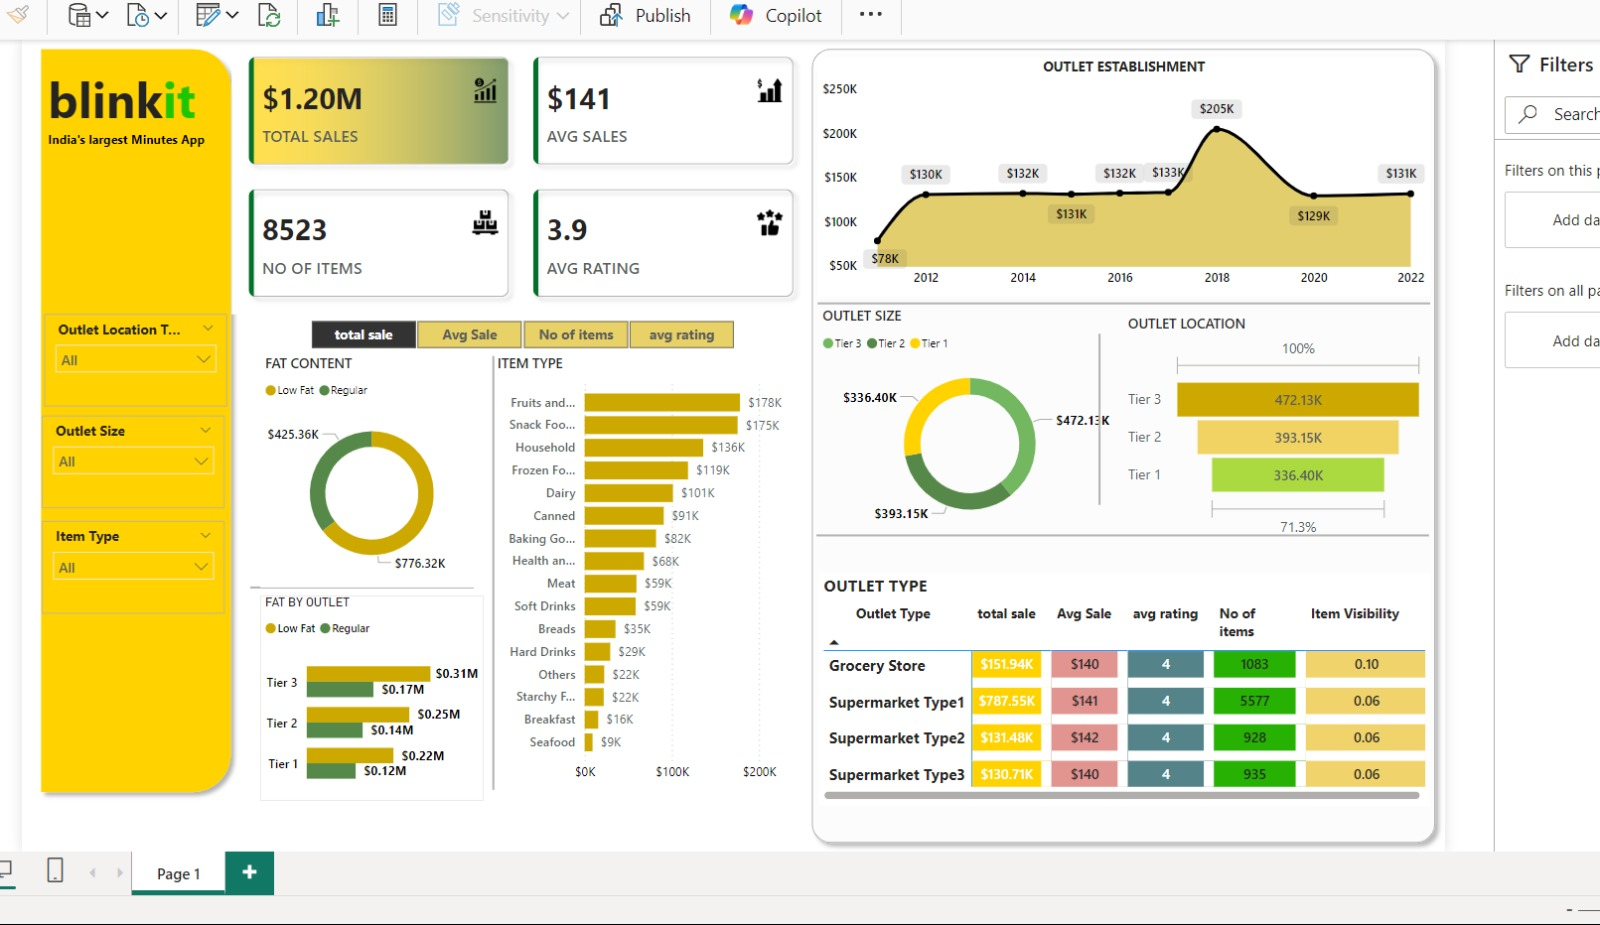

This screenshot's page, from the dashboard's own definition file:
{"tool":"powerbi","page":{"name":"Page 1","canvas":[1400,800],"ordinal":0},"visuals":[{"type":"shape","box":[9.3,0,205,750],"z":0},{"type":"textbox","box":[21.2,21.2,169.3,76.7],"z":1000},{"type":"textbox","box":[21,83.3,177.1,32.4],"z":2000},{"type":"cardVisual","fields":{"Data":["BlinkIT Grocery Data.total sale","BlinkIT Grocery Data.Avg Sale","BlinkIT Grocery Data.No of items","BlinkIT Grocery Data.avg rating"]},"box":[214.3,0,570,270],"z":3000},{"type":"shape","box":[768.6,0,631.4,800],"z":4000},{"type":"donutChart","title":"OUTLET SIZE","fields":{"Y":["BlinkIT Grocery Data.total sale"],"Category":["BlinkIT Grocery Data.Outlet Location Type"]},"box":[782.9,262.9,300,225.7],"z":5000},{"type":"slicer","fields":{"Values":["Metrics.Metrics"]},"box":[258.6,270,465.7,40],"z":6000},{"type":"cardVisual","fields":{"Data":["BlinkIT Grocery Data.total sale"]},"box":[288.6,415.7,90,58.6],"z":7000},{"type":"clusteredBarChart","title":"FAT BY OUTLET","fields":{"Y":["BlinkIT Grocery Data.total sale"],"Category":["BlinkIT Grocery Data.Outlet Location Type"],"Series":["BlinkIT Grocery Data.Item Fat Content"]},"box":[234.3,547.1,220,202.9],"z":8000},{"type":"shape","box":[224.3,510,220,60],"z":9000},{"type":"shape","box":[435.7,311.4,55.7,427.1],"z":10000},{"type":"barChart","title":"ITEM TYPE","fields":{"Y":["BlinkIT Grocery Data.total sale"],"Category":["BlinkIT Grocery Data.Item Type"]},"box":[454.3,308.6,314.3,430],"z":11000},{"type":"lineChart","title":"OUTLET ESTABLISHMENT","fields":{"Category":["BlinkIT Grocery Data.Outlet Establishment Year"],"Y":["BlinkIT Grocery Data.total sale"]},"box":[782.9,17.1,602.9,235.7],"z":12000},{"type":"shape","box":[782.9,230,602.9,60],"z":13000},{"type":"donutChart","title":"FAT CONTENT","fields":{"Y":["BlinkIT Grocery Data.total sale"],"Category":["BlinkIT Grocery Data.Item Fat Content"]},"box":[234.3,308.6,220,230],"z":14000},{"type":"funnel","title":"OUTLET LOCATION","fields":{"Y":["Sum(BlinkIT Grocery Data.Sales)"],"Category":["BlinkIT Grocery Data.Outlet Location Type"]},"box":[1084.3,270,301.4,225.7],"z":15000},{"type":"shape","box":[1025.7,290,68.6,168.6],"z":16000},{"type":"shape","box":[781.4,458.6,602.9,60],"z":17000},{"type":"pivotTable","title":"OUTLET TYPE","fields":{"Rows":["BlinkIT Grocery Data.Outlet Type"],"Values":["BlinkIT Grocery Data.total sale","BlinkIT Grocery Data.Avg Sale","BlinkIT Grocery Data.avg rating","BlinkIT Grocery Data.No of items","Avg(BlinkIT Grocery Data.Item Visibility)"]},"box":[784.3,525.7,601.4,228.6],"z":18000},{"type":"slicer","fields":{"Values":["BlinkIT Grocery Data.Outlet Location Type"]},"box":[21.4,270,180,91.4],"z":19000},{"type":"slicer","fields":{"Values":["BlinkIT Grocery Data.Outlet Size"]},"box":[20,370,180,91.4],"z":20000},{"type":"slicer","fields":{"Values":["BlinkIT Grocery Data.Item Type"]},"box":[20,474.3,180,91.4],"z":21000}]}

Visuals, with their boxes on the page's 1400x800 design canvas (x1, y1, x2, y2). These are canvas units, not pixel positions in the 1600x925 screenshot, which may show the page scaled, cropped or inside an application window:
shape: select_region(9, 0, 214, 750)
textbox: select_region(21, 21, 190, 98)
textbox: select_region(21, 83, 198, 116)
cardVisual - BlinkIT Grocery Data.total sale x BlinkIT Grocery Data.Avg Sale: select_region(214, 0, 784, 270)
shape: select_region(769, 0, 1400, 800)
"OUTLET SIZE" donutChart: select_region(783, 263, 1083, 489)
slicer - Metrics.Metrics: select_region(259, 270, 724, 310)
cardVisual - BlinkIT Grocery Data.total sale: select_region(289, 416, 379, 474)
"FAT BY OUTLET" clusteredBarChart: select_region(234, 547, 454, 750)
shape: select_region(224, 510, 444, 570)
shape: select_region(436, 311, 491, 738)
"ITEM TYPE" barChart: select_region(454, 309, 769, 739)
"OUTLET ESTABLISHMENT" lineChart: select_region(783, 17, 1386, 253)
shape: select_region(783, 230, 1386, 290)
"FAT CONTENT" donutChart: select_region(234, 309, 454, 539)
"OUTLET LOCATION" funnel: select_region(1084, 270, 1386, 496)
shape: select_region(1026, 290, 1094, 459)
shape: select_region(781, 459, 1384, 519)
"OUTLET TYPE" pivotTable: select_region(784, 526, 1386, 754)
slicer - BlinkIT Grocery Data.Outlet Location Type: select_region(21, 270, 201, 361)
slicer - BlinkIT Grocery Data.Outlet Size: select_region(20, 370, 200, 461)
slicer - BlinkIT Grocery Data.Item Type: select_region(20, 474, 200, 566)
